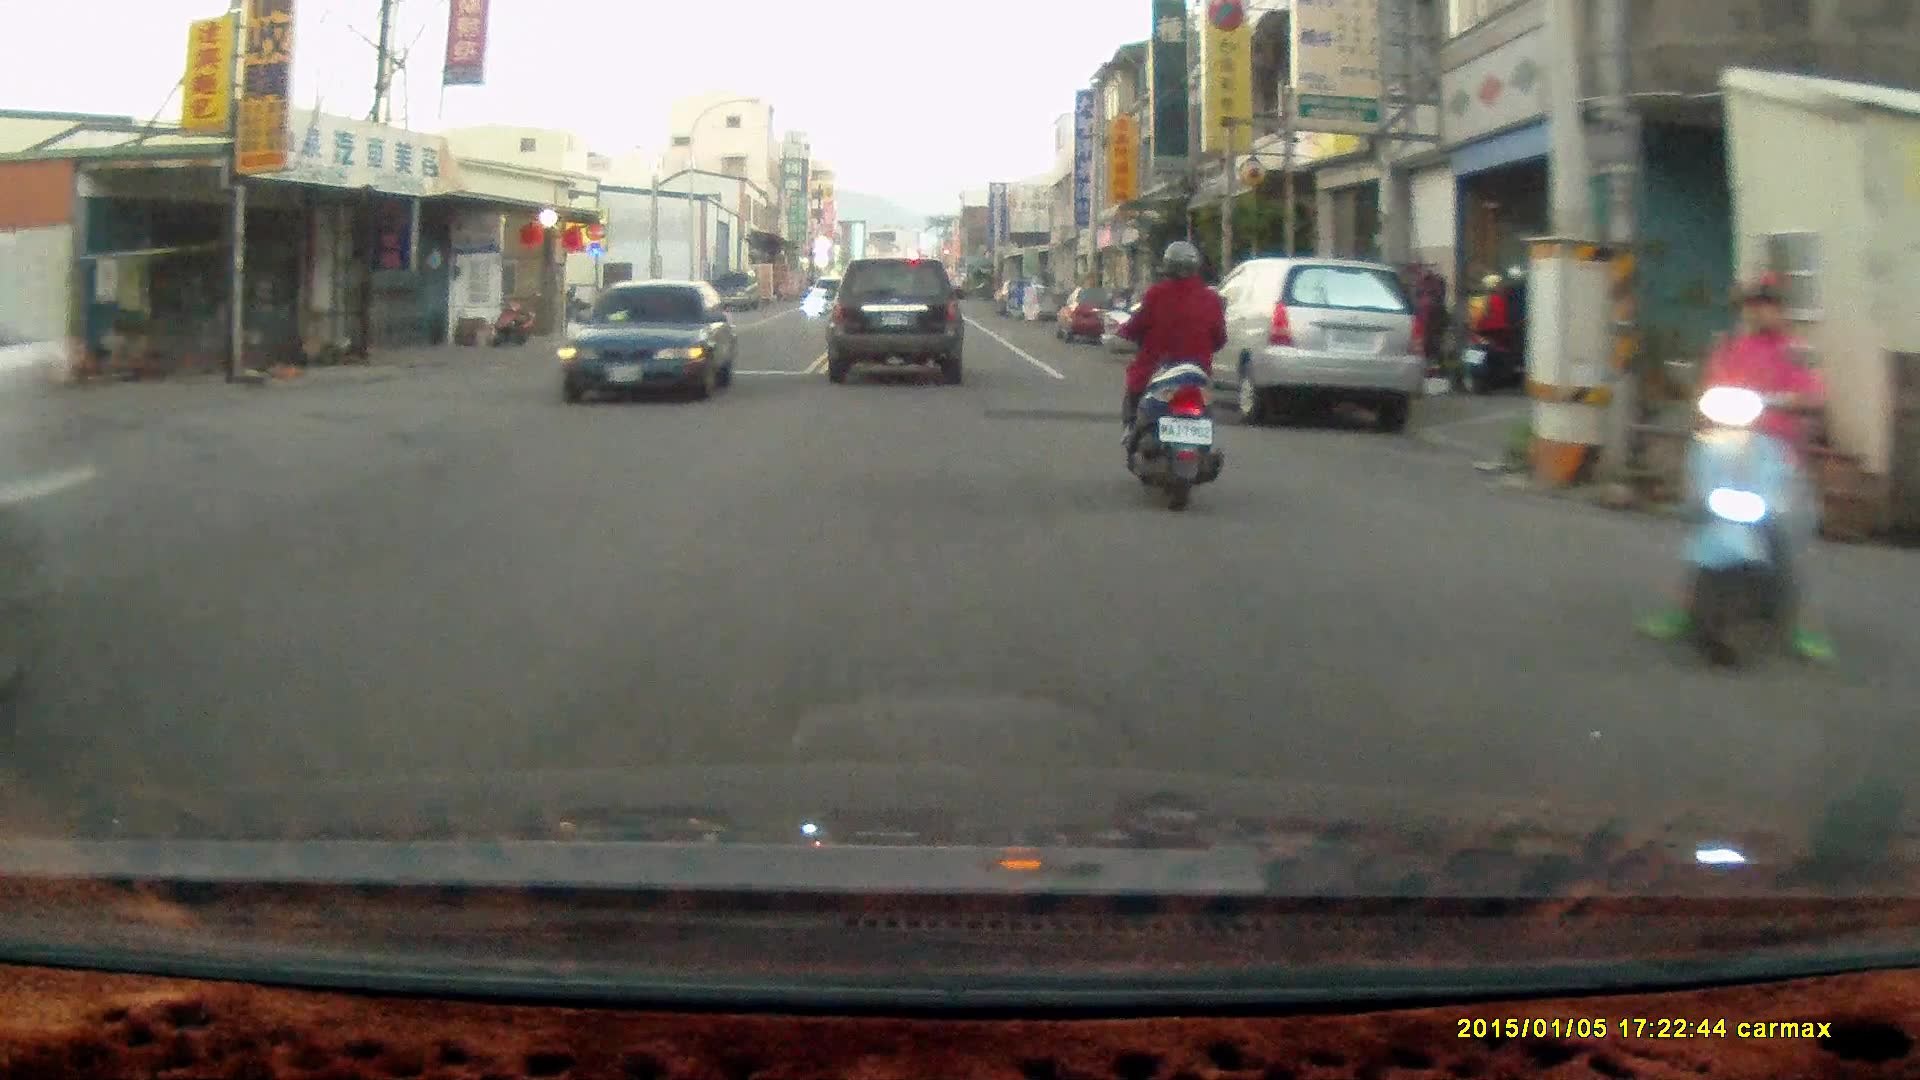rider: (1641, 268, 1844, 675), (1114, 237, 1225, 512), (1465, 262, 1531, 393)
vehicle: (1179, 261, 1422, 433), (562, 279, 740, 408), (826, 258, 967, 390), (1055, 287, 1133, 344)
